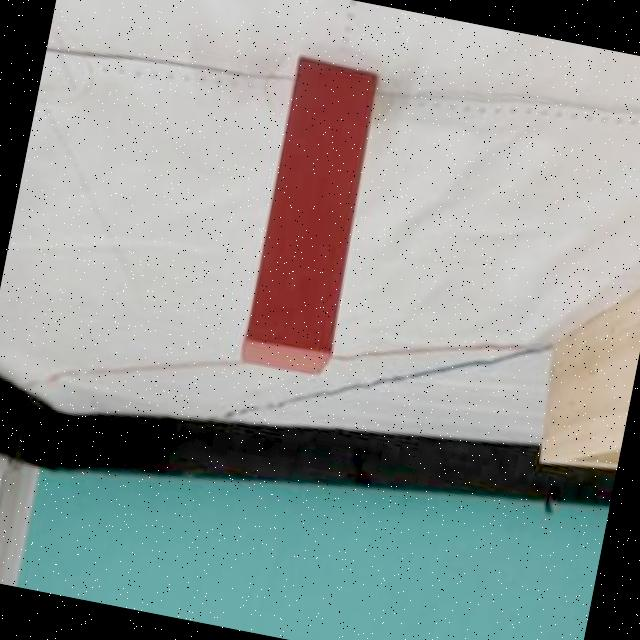redbox: (236, 61, 383, 379)
